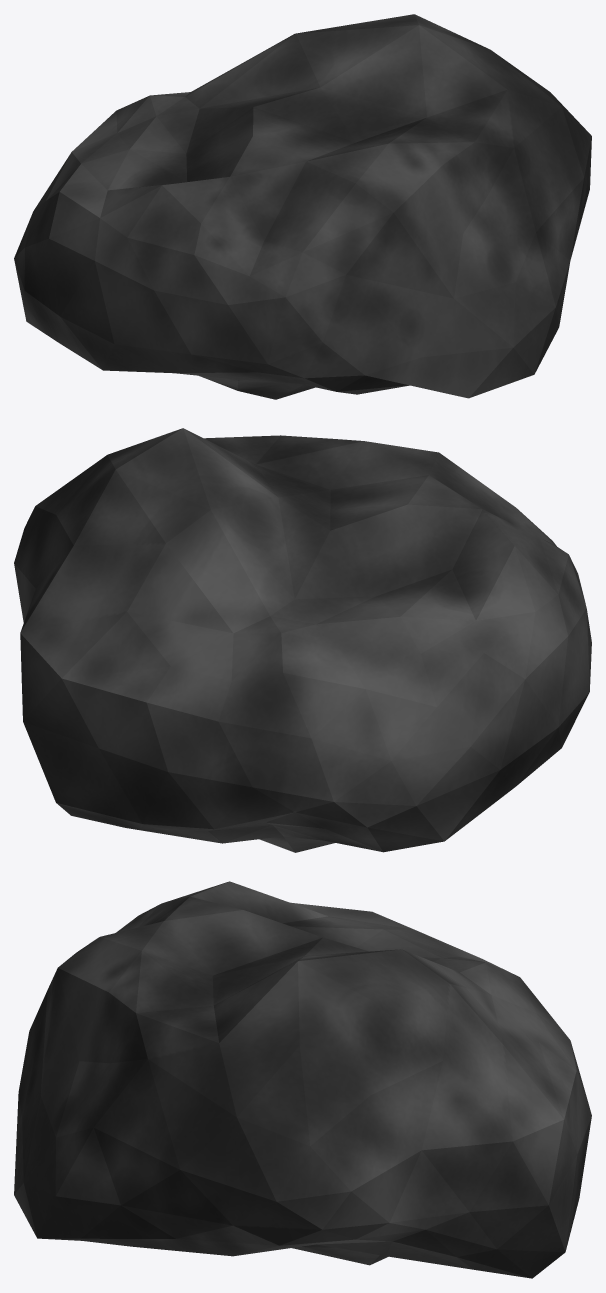
File: Rock_2.glb
The picture shows the model from 3 angles, top to bottom: view 1: azimuth 30°, elevation 25°; view 2: azimuth 150°, elevation 25°; view 3: azimuth 270°, elevation 25°; orthographic projection. The views are drawn at different scales.
Parts seen in each view (by area): view 1: Großer Fels; view 2: Großer Fels; view 3: Großer Fels.
Part boxes in pixels (bbox=[...]): Großer Fels: bbox=[14, 14, 591, 399]; Großer Fels: bbox=[14, 428, 591, 852]; Großer Fels: bbox=[14, 881, 591, 1278].
Size of the model in its own units: 3.59 by 2.3 by 3.18.
1 material, 1 textured.
